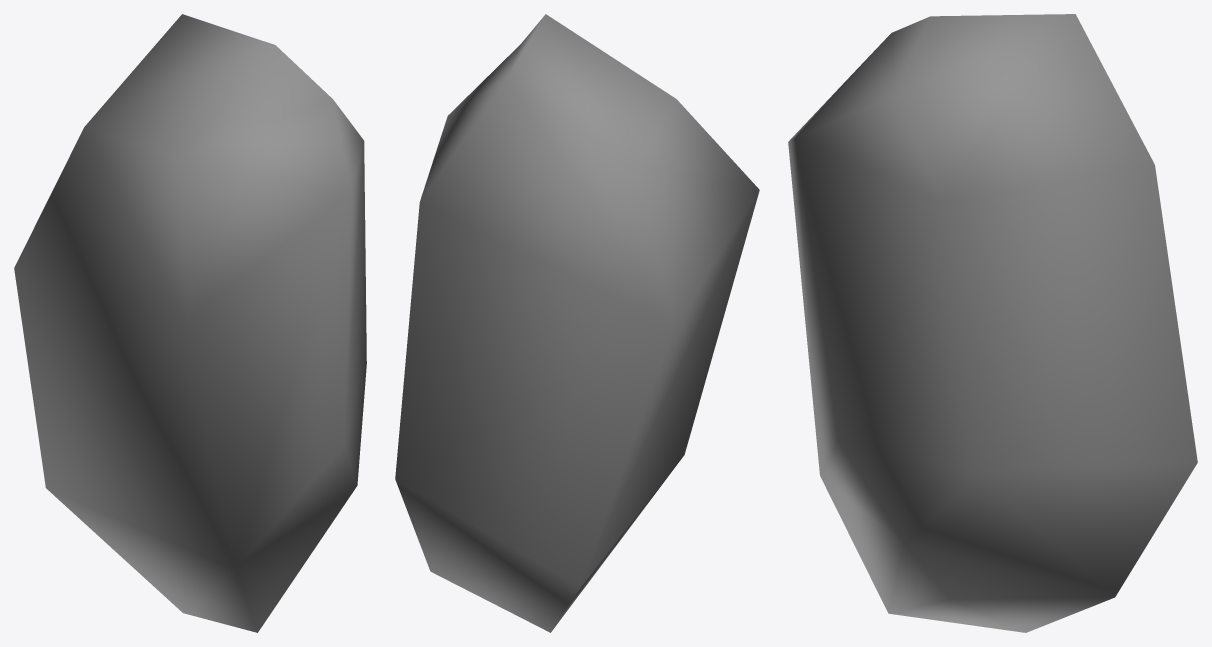
Rendered from Batu2.fbx.
The picture shows the model from 3 angles, left to right: view 1: azimuth 30°, elevation 25°; view 2: azimuth 150°, elevation 25°; view 3: azimuth 270°, elevation 25°; orthographic projection. The views are drawn at different scales.
Parts seen in each view (by area): view 1: SM_Rocks_10; view 2: SM_Rocks_10; view 3: SM_Rocks_10.
Part boxes in pixels (x1,y1,x2,y2): SM_Rocks_10: (14, 14, 366, 632); SM_Rocks_10: (395, 14, 759, 632); SM_Rocks_10: (788, 14, 1197, 632).
Size of the model in its own units: 17.18 by 31.21 by 18.03.
